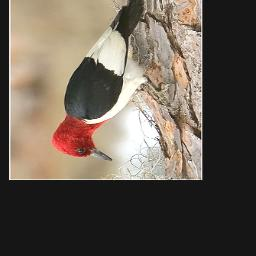Woodpecker: (49, 0, 178, 164)
